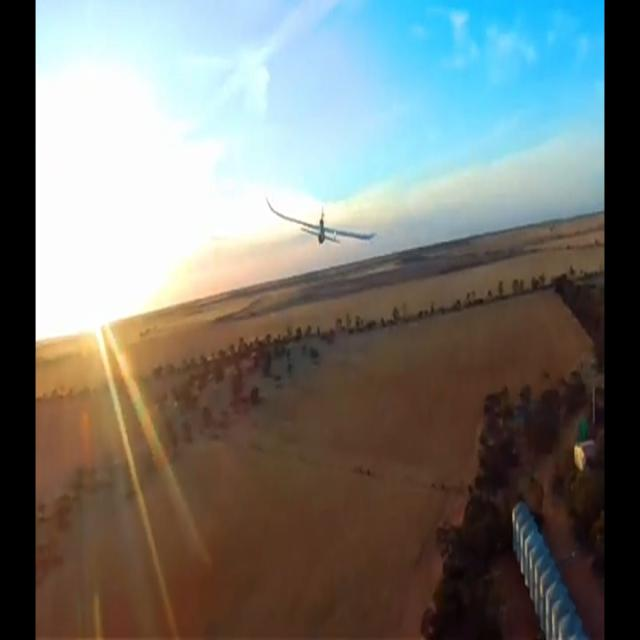iha: (296, 193, 345, 249)
